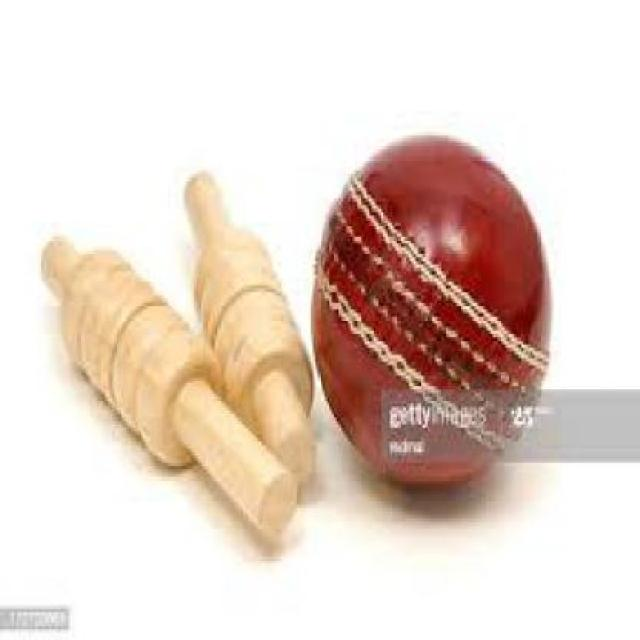ball: (282, 129, 640, 435)
